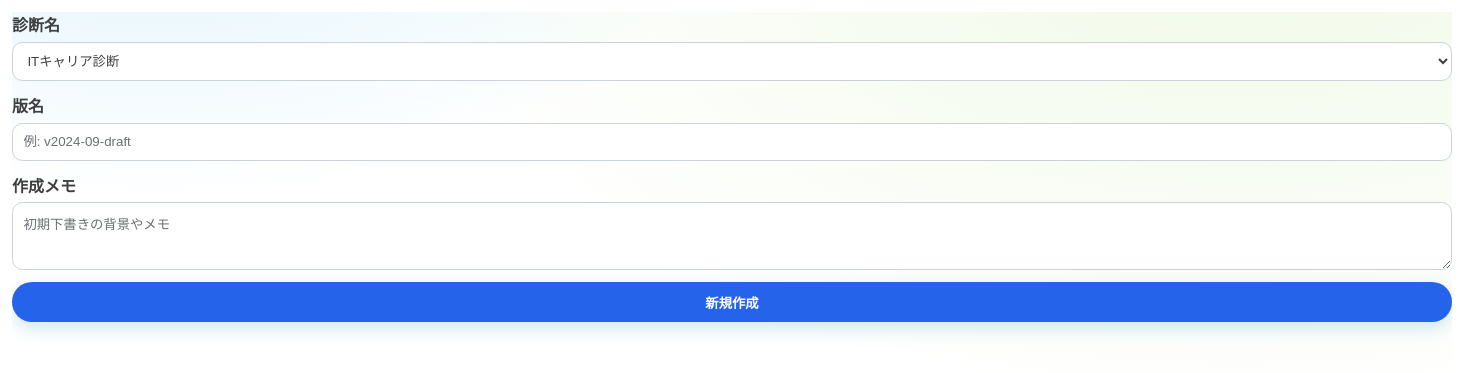
Test: CreateVersionForm › submits new version and resets the form on success
Select "ITキャリア診断" in the dropdown labelled "診断名". click: (732, 62)
box: [12,42,1452,81]
Type "  Draft-1  " into the field labelled "版名". click: (732, 142)
box: [12,123,1452,161]
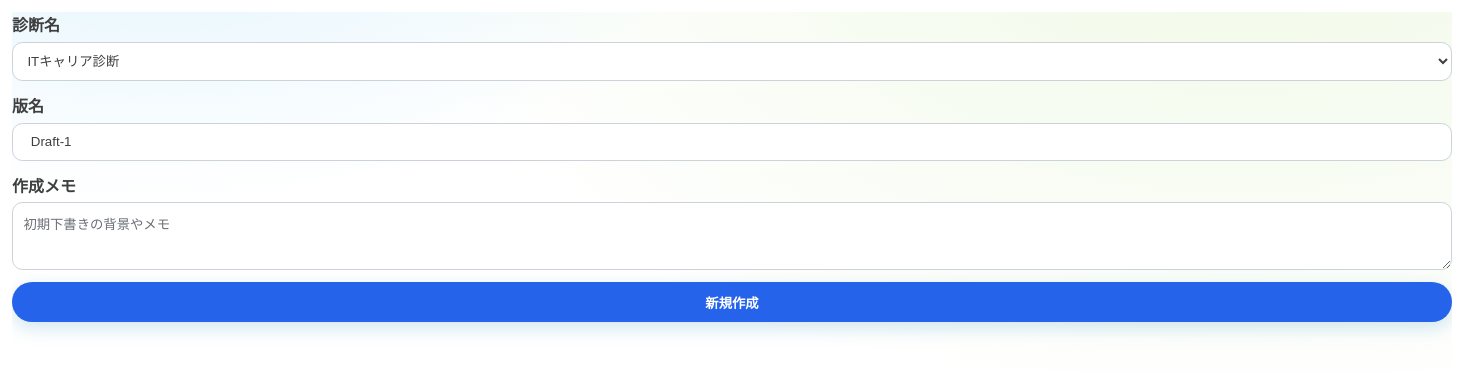
Type "初稿" into the text box labelled "作成メモ". click: (732, 236)
box: [12,202,1452,270]
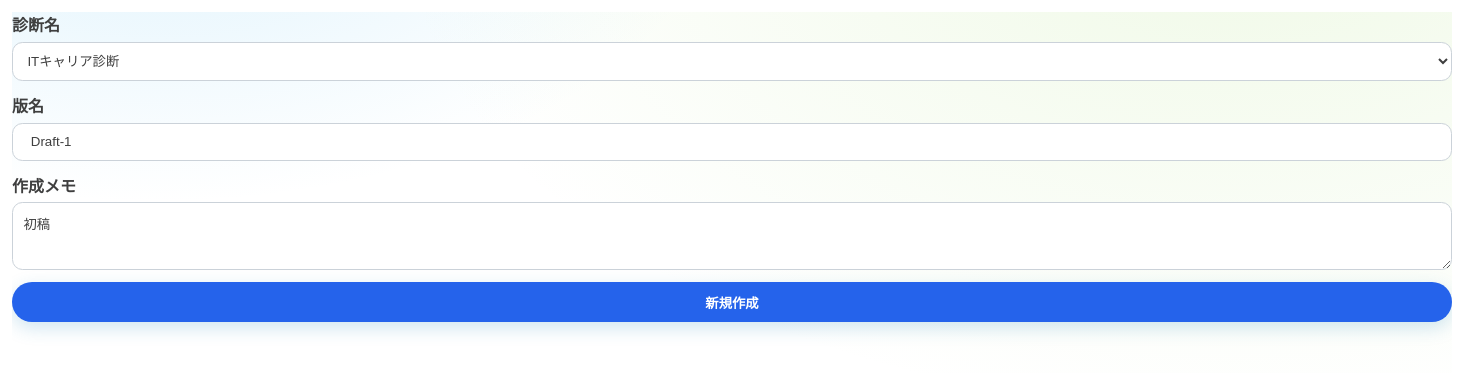
Submit the form named "create-version-form"
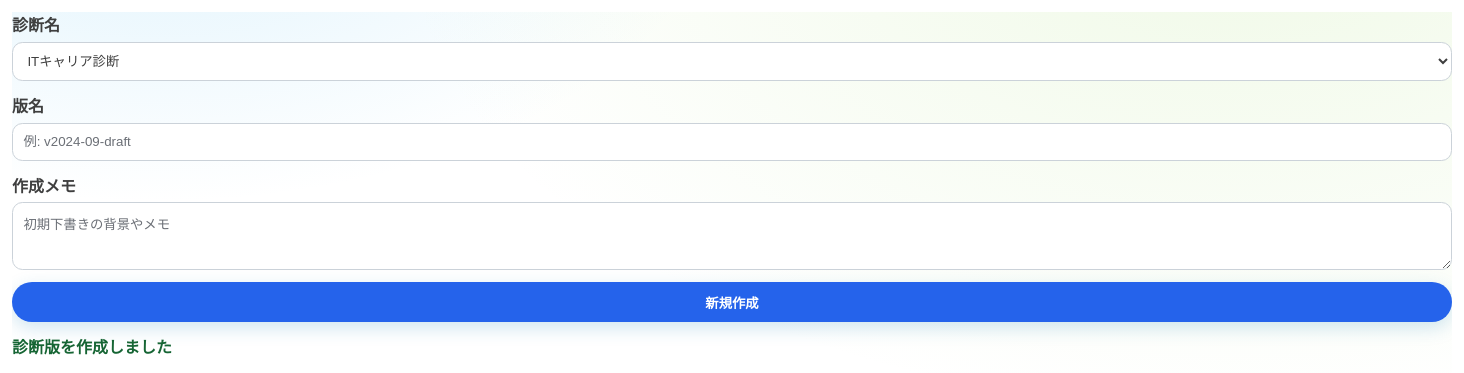
Expected: the text "診断版を作成しました" is shown, [12,337,172,357]
Expected: the field labelled "版名" is empty, [12,123,1452,161]
Expected: the text box labelled "作成メモ" is empty, [12,202,1452,270]
